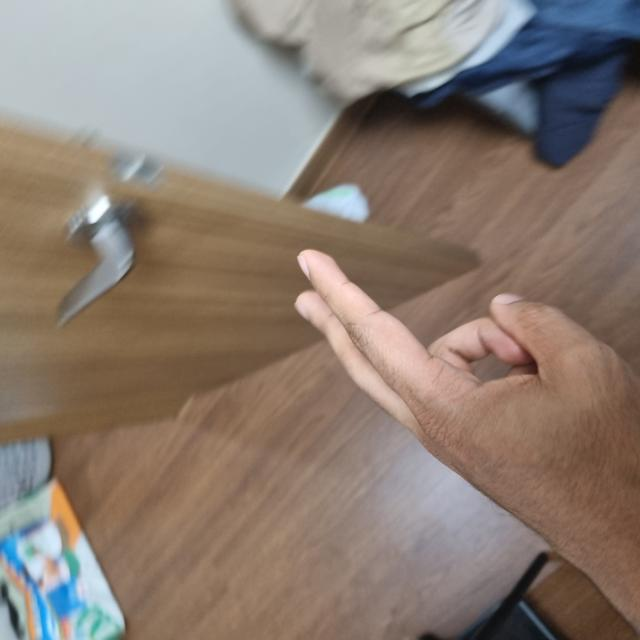Scissors: (35, 288, 390, 638)
